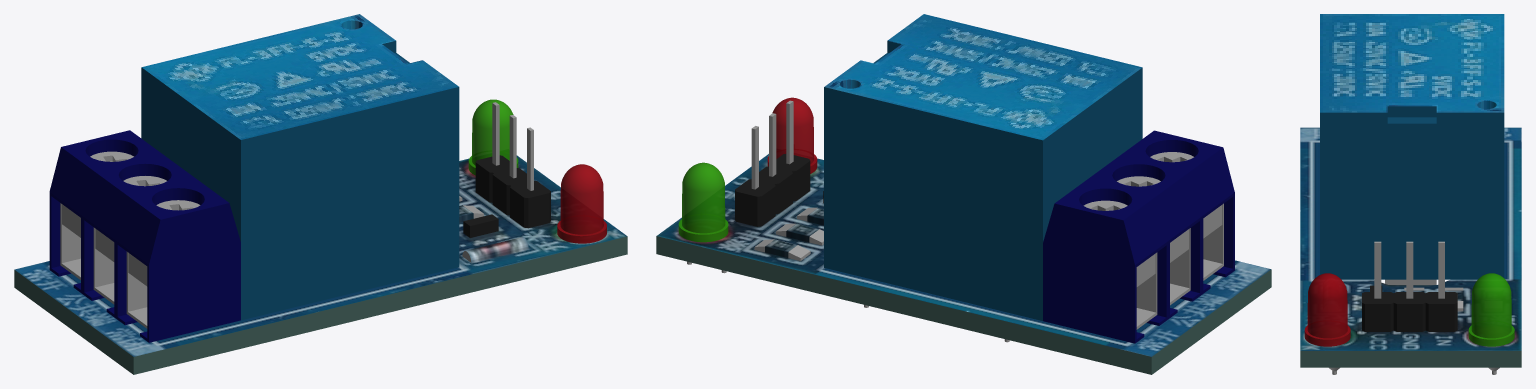
The model's file is arduinoProject1.glb.
3 renders of one model, left to right at view 1: azimuth 30°, elevation 25°; view 2: azimuth 150°, elevation 25°; view 3: azimuth 270°, elevation 25°, orthographic. The views are drawn at different scales.
Visible parts, largest first — view 1: relay_0, Sphere_1; view 2: relay_0, Sphere_1; view 3: relay_0, Sphere_1.
Part boxes in pixels (x1,y1,x2,y2): relay_0: [14, 14, 627, 374]; Sphere_1: [468, 99, 606, 243]; relay_0: [656, 14, 1271, 374]; Sphere_1: [678, 97, 817, 242]; relay_0: [1300, 14, 1521, 374]; Sphere_1: [1304, 273, 1514, 346].
Size of the model in its own units: 4.3 by 1.78 by 1.8.
12 materials, 3 textured.
